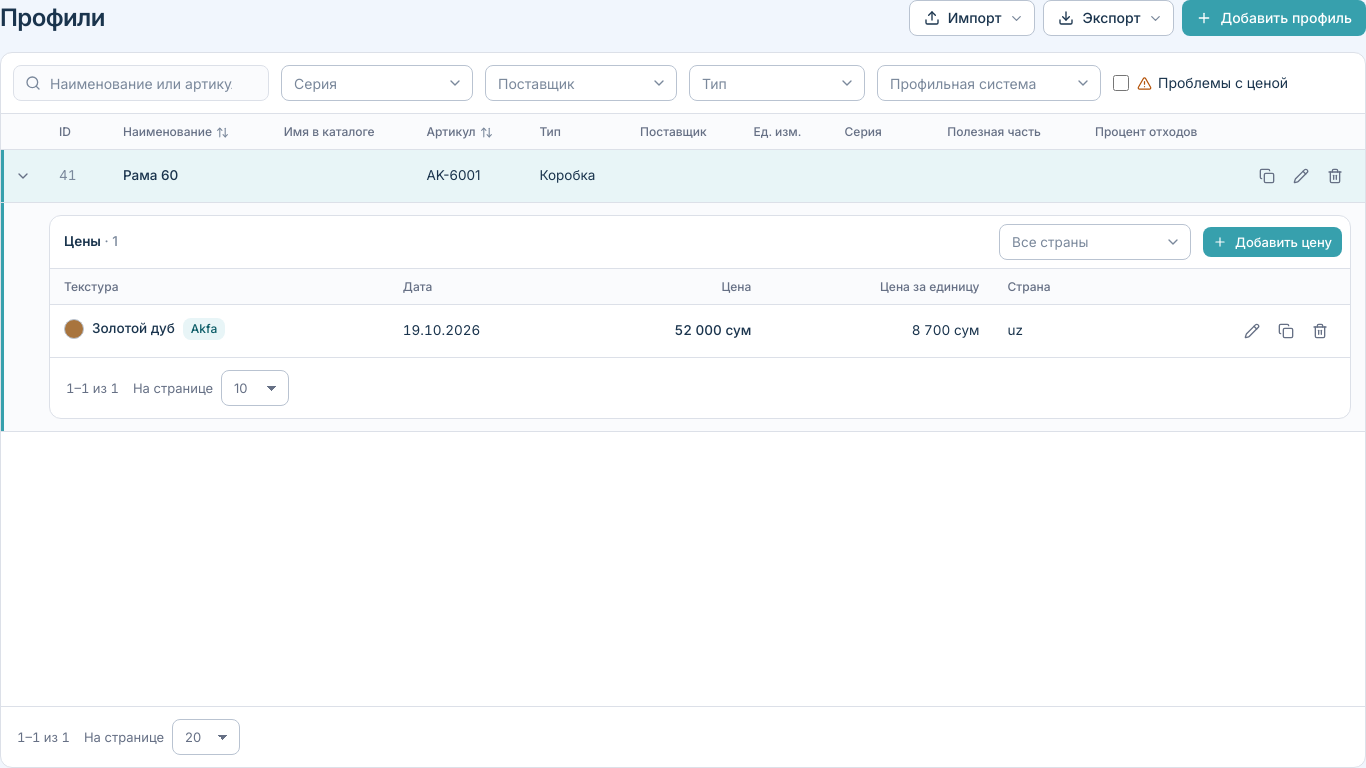
Product prices › requires the fields of the old form plus texture and currency
The image size is (1366, 768).
Step 1. Click the button "Добавить цену" → click(1273, 242), box left=1203, top=227, right=1342, bottom=257
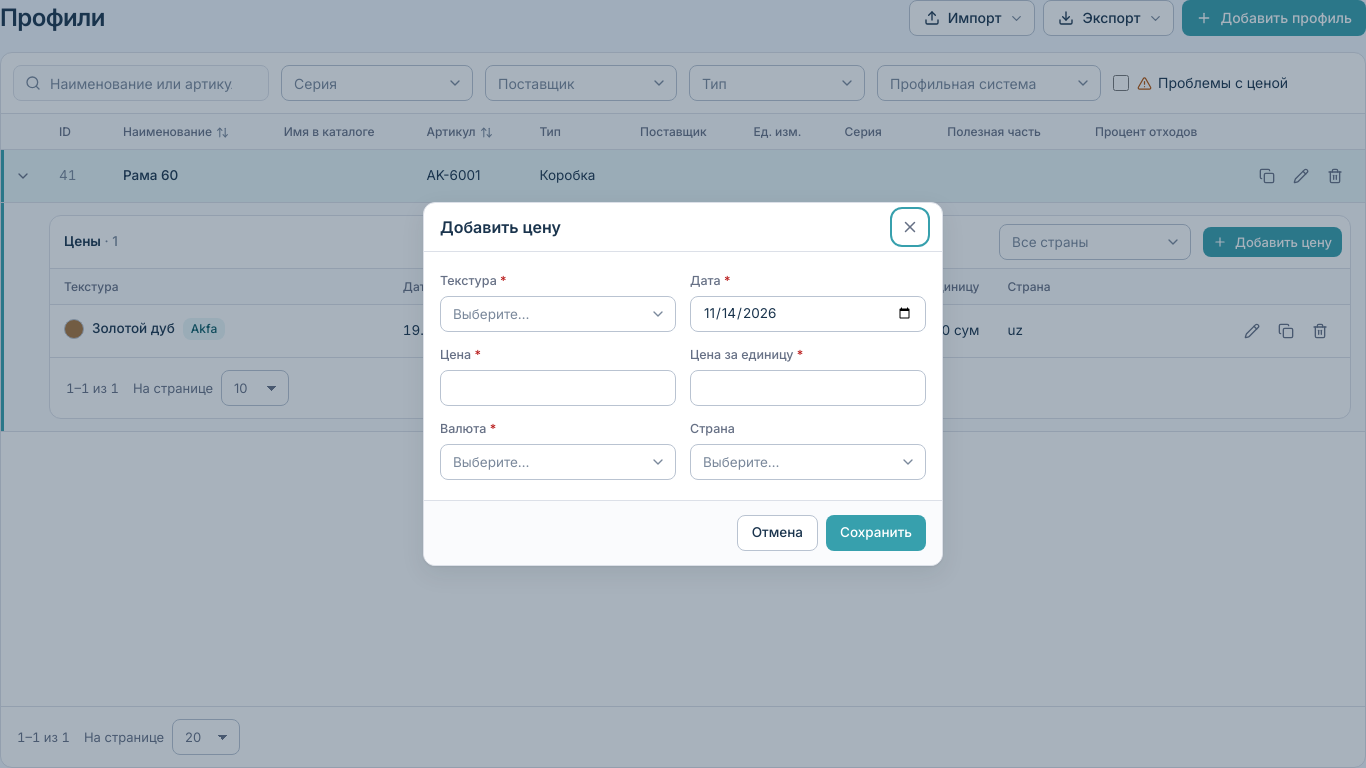
Step 2. Click the button "Сохранить" → click(876, 533), box left=826, top=515, right=926, bottom=551
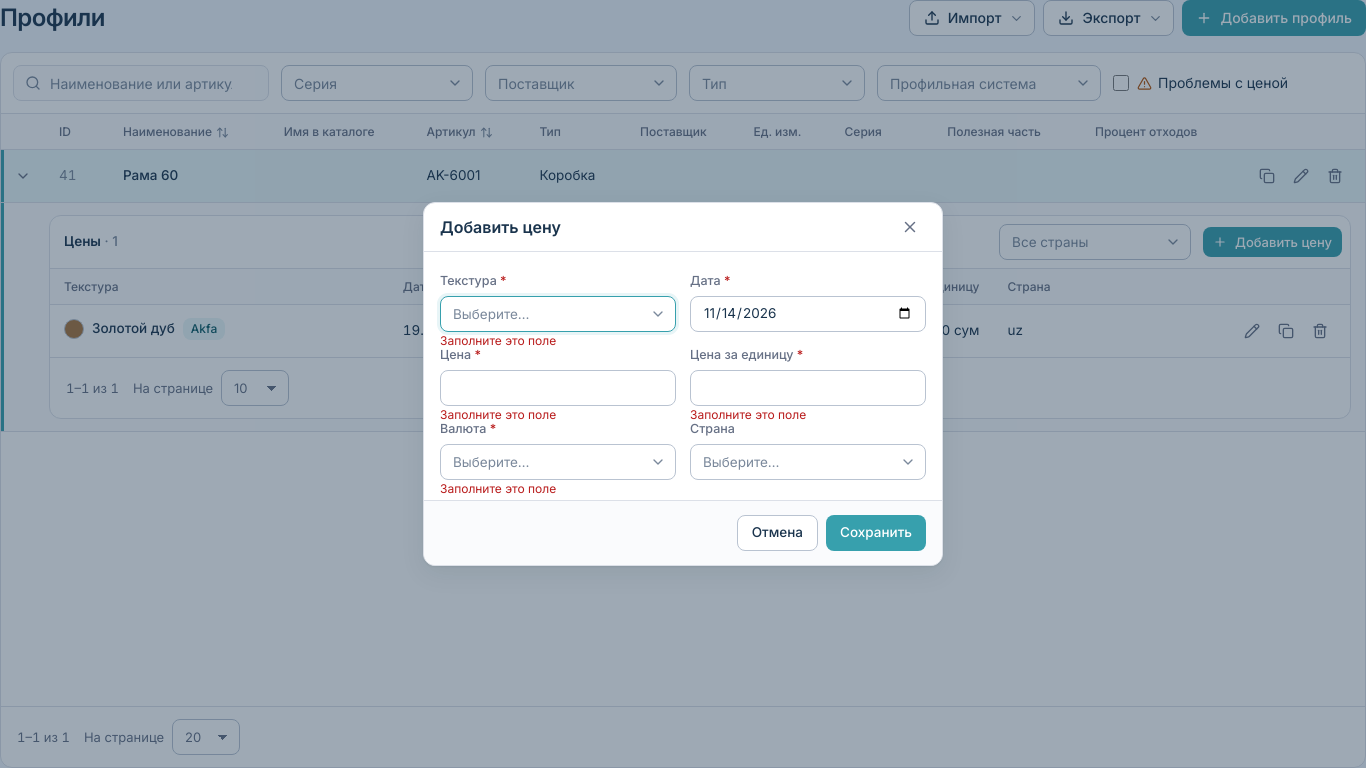
Expected: the text "Заполните это поле" is shown 4 times, left=440, top=334, right=556, bottom=348; left=440, top=408, right=556, bottom=422; left=690, top=408, right=806, bottom=422; left=440, top=482, right=556, bottom=496
